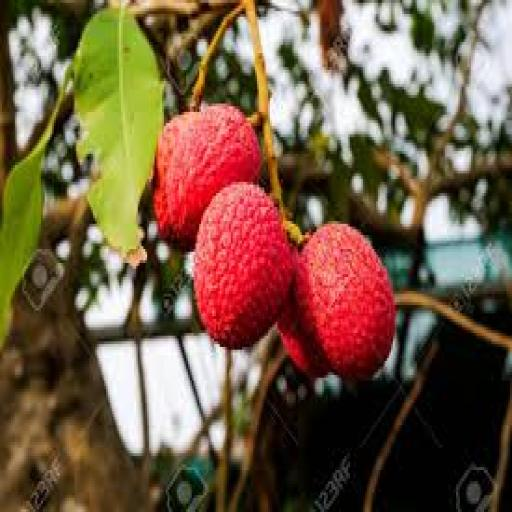lychee: (278, 224, 394, 380), (194, 182, 294, 349), (153, 104, 260, 249)
